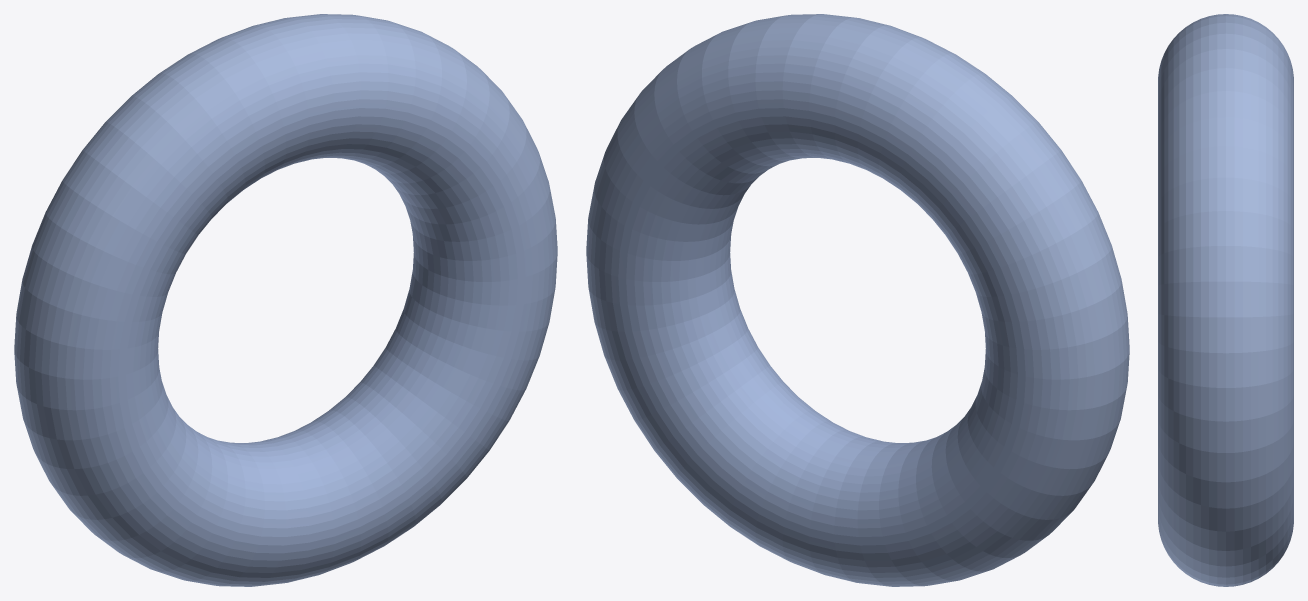
3 renders of one model, left to right at view 1: azimuth 30°, elevation 25°; view 2: azimuth 150°, elevation 25°; view 3: azimuth 270°, elevation 25°, orthographic. The views are drawn at different scales.
Visible parts, largest first — view 1: world; view 2: world; view 3: world.
Boxes of the visible parts, <box> form: world: <box>14,14,557,586</box>; world: <box>586,14,1129,586</box>; world: <box>1158,14,1293,586</box>.
Size of the model in its own units: 21.87 by 21.82 by 5.19.
